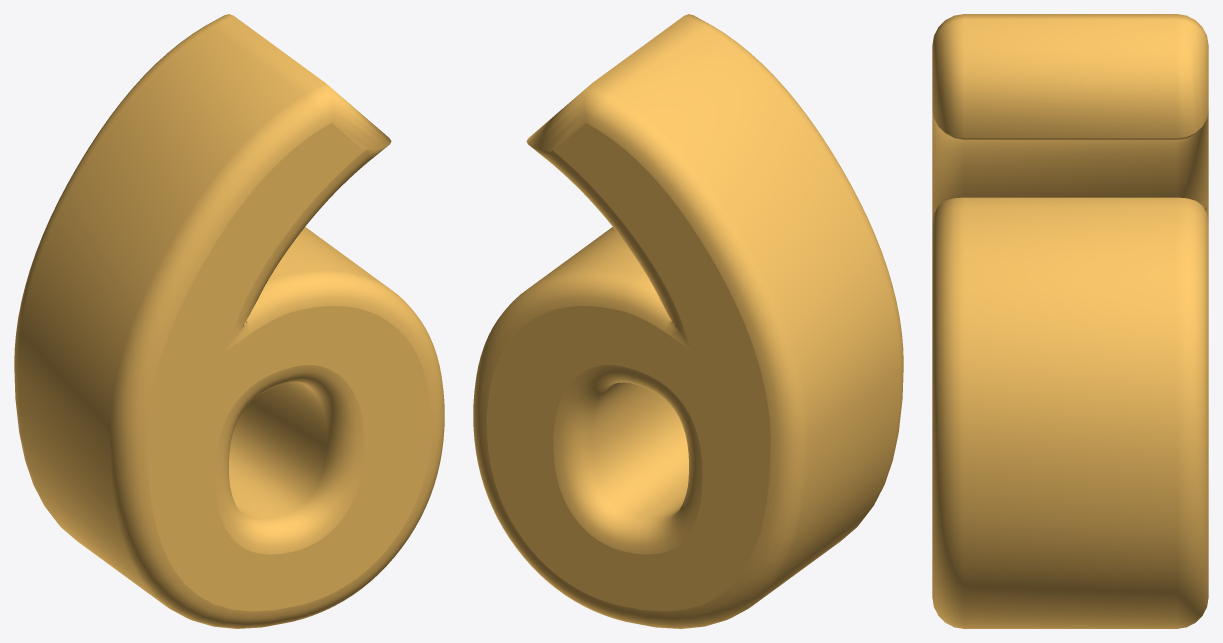
3 renders of one model, left to right at view 1: azimuth 30°, elevation 25°; view 2: azimuth 150°, elevation 25°; view 3: azimuth 270°, elevation 25°, orthographic. The views are drawn at different scales.
Parts seen in each view (by area): view 1: Text; view 2: Text; view 3: Text.
Boxes of the visible parts, <box> form: Text: <box>14,14,444,628</box>; Text: <box>473,14,903,628</box>; Text: <box>932,14,1208,628</box>.
Size of the model in its own units: 41.7 by 63.4 by 26.
